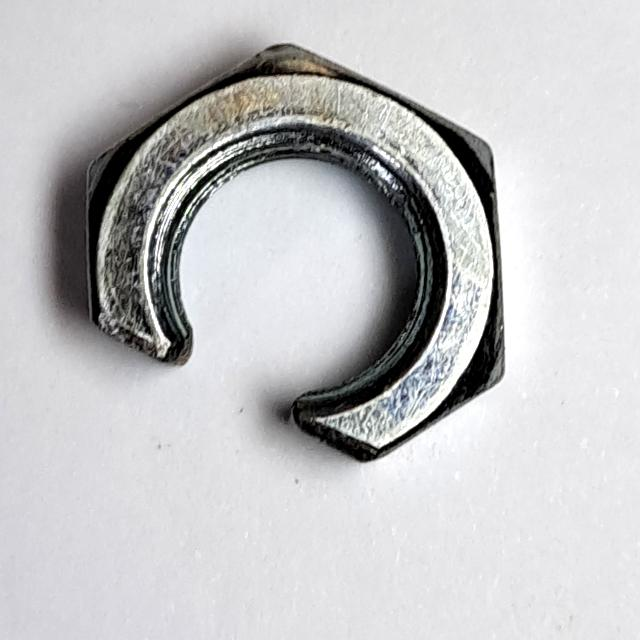Fracture: (70, 34, 527, 481)
